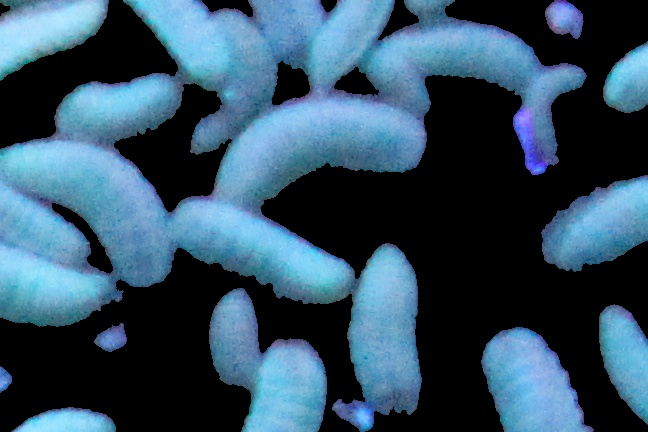larvae: (211, 97, 427, 216), (1, 139, 168, 285), (171, 193, 352, 306), (348, 244, 427, 415), (376, 19, 539, 92), (480, 324, 585, 432), (539, 181, 648, 279), (117, 1, 232, 81), (49, 74, 182, 143), (244, 331, 332, 432), (301, 1, 396, 91), (1, 1, 106, 79), (1, 265, 113, 327), (597, 301, 648, 430), (1, 192, 89, 263), (209, 287, 263, 387)
